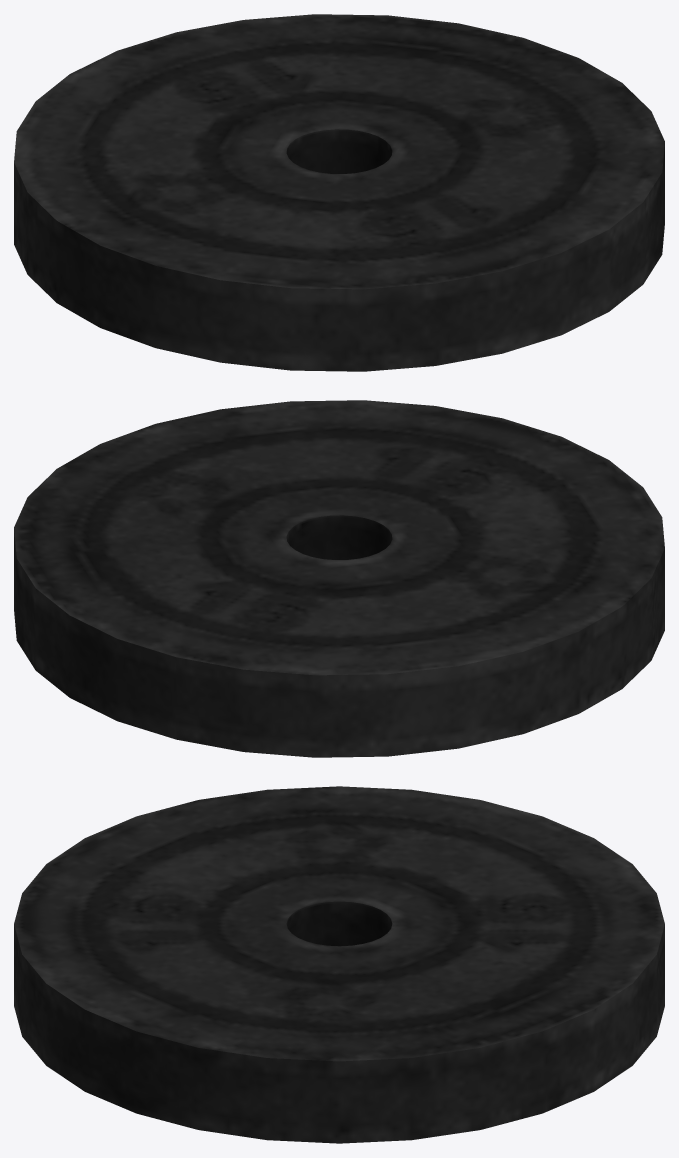
The model's file is MB_Barbell_Drive_03.fbx.
3 views of the same model, one above another, from view 1: azimuth 30°, elevation 25°; view 2: azimuth 150°, elevation 25°; view 3: azimuth 270°, elevation 25° (orthographic).
Visible parts, largest first — view 1: MB_Barbell_Drive_03_LOD0; view 2: MB_Barbell_Drive_03_LOD0; view 3: MB_Barbell_Drive_03_LOD0.
Part boxes in pixels (x1,y1,x2,y2): MB_Barbell_Drive_03_LOD0: (14,14,664,371); MB_Barbell_Drive_03_LOD0: (14,400,664,757); MB_Barbell_Drive_03_LOD0: (14,786,664,1143).
Size of what is drawn, in the model's own units: 44.04 by 6.13 by 44.04.
